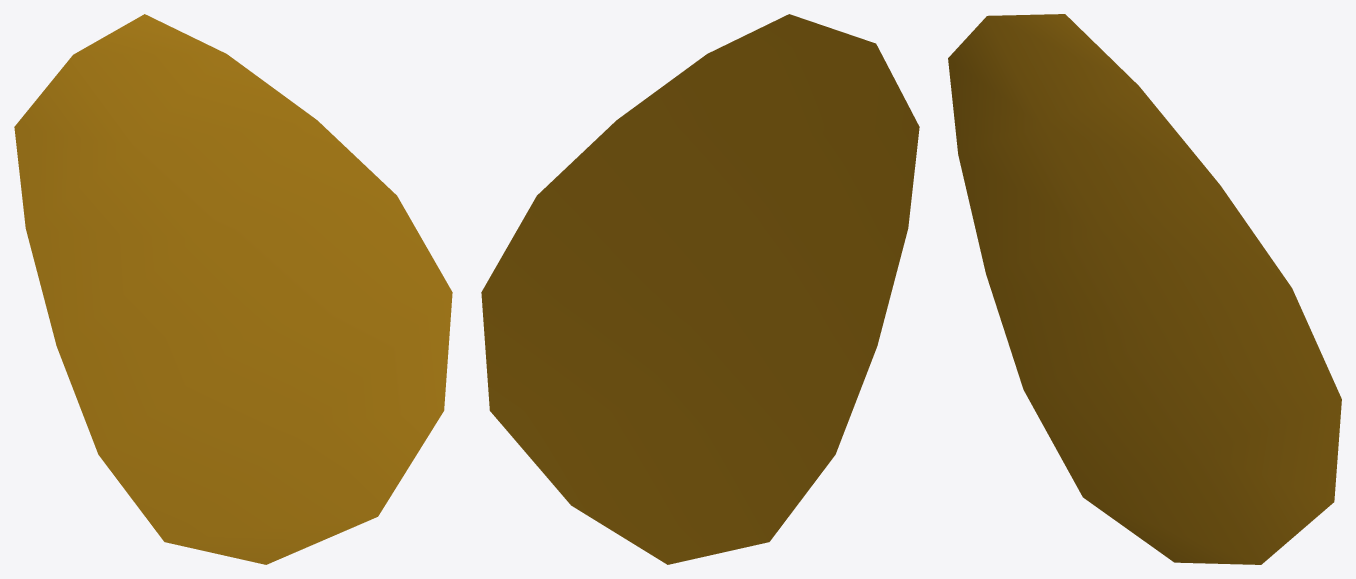
File: canary_feather_flight_tertiary_024.obj
3 views of the same model, side by side, from view 1: azimuth 30°, elevation 25°; view 2: azimuth 150°, elevation 25°; view 3: azimuth 330°, elevation 25° (orthographic). The views are drawn at different scales.
Visible parts, largest first — view 1: feather_flight_tertiary_024; view 2: feather_flight_tertiary_024; view 3: feather_flight_tertiary_024.
Part boxes in pixels (<box>): feather_flight_tertiary_024: <box>14,14,452,564</box>; feather_flight_tertiary_024: <box>481,14,919,564</box>; feather_flight_tertiary_024: <box>948,14,1341,564</box>.
Bounding box in the file's own units: 0.00513 × 0.00649 × 0.000155.
